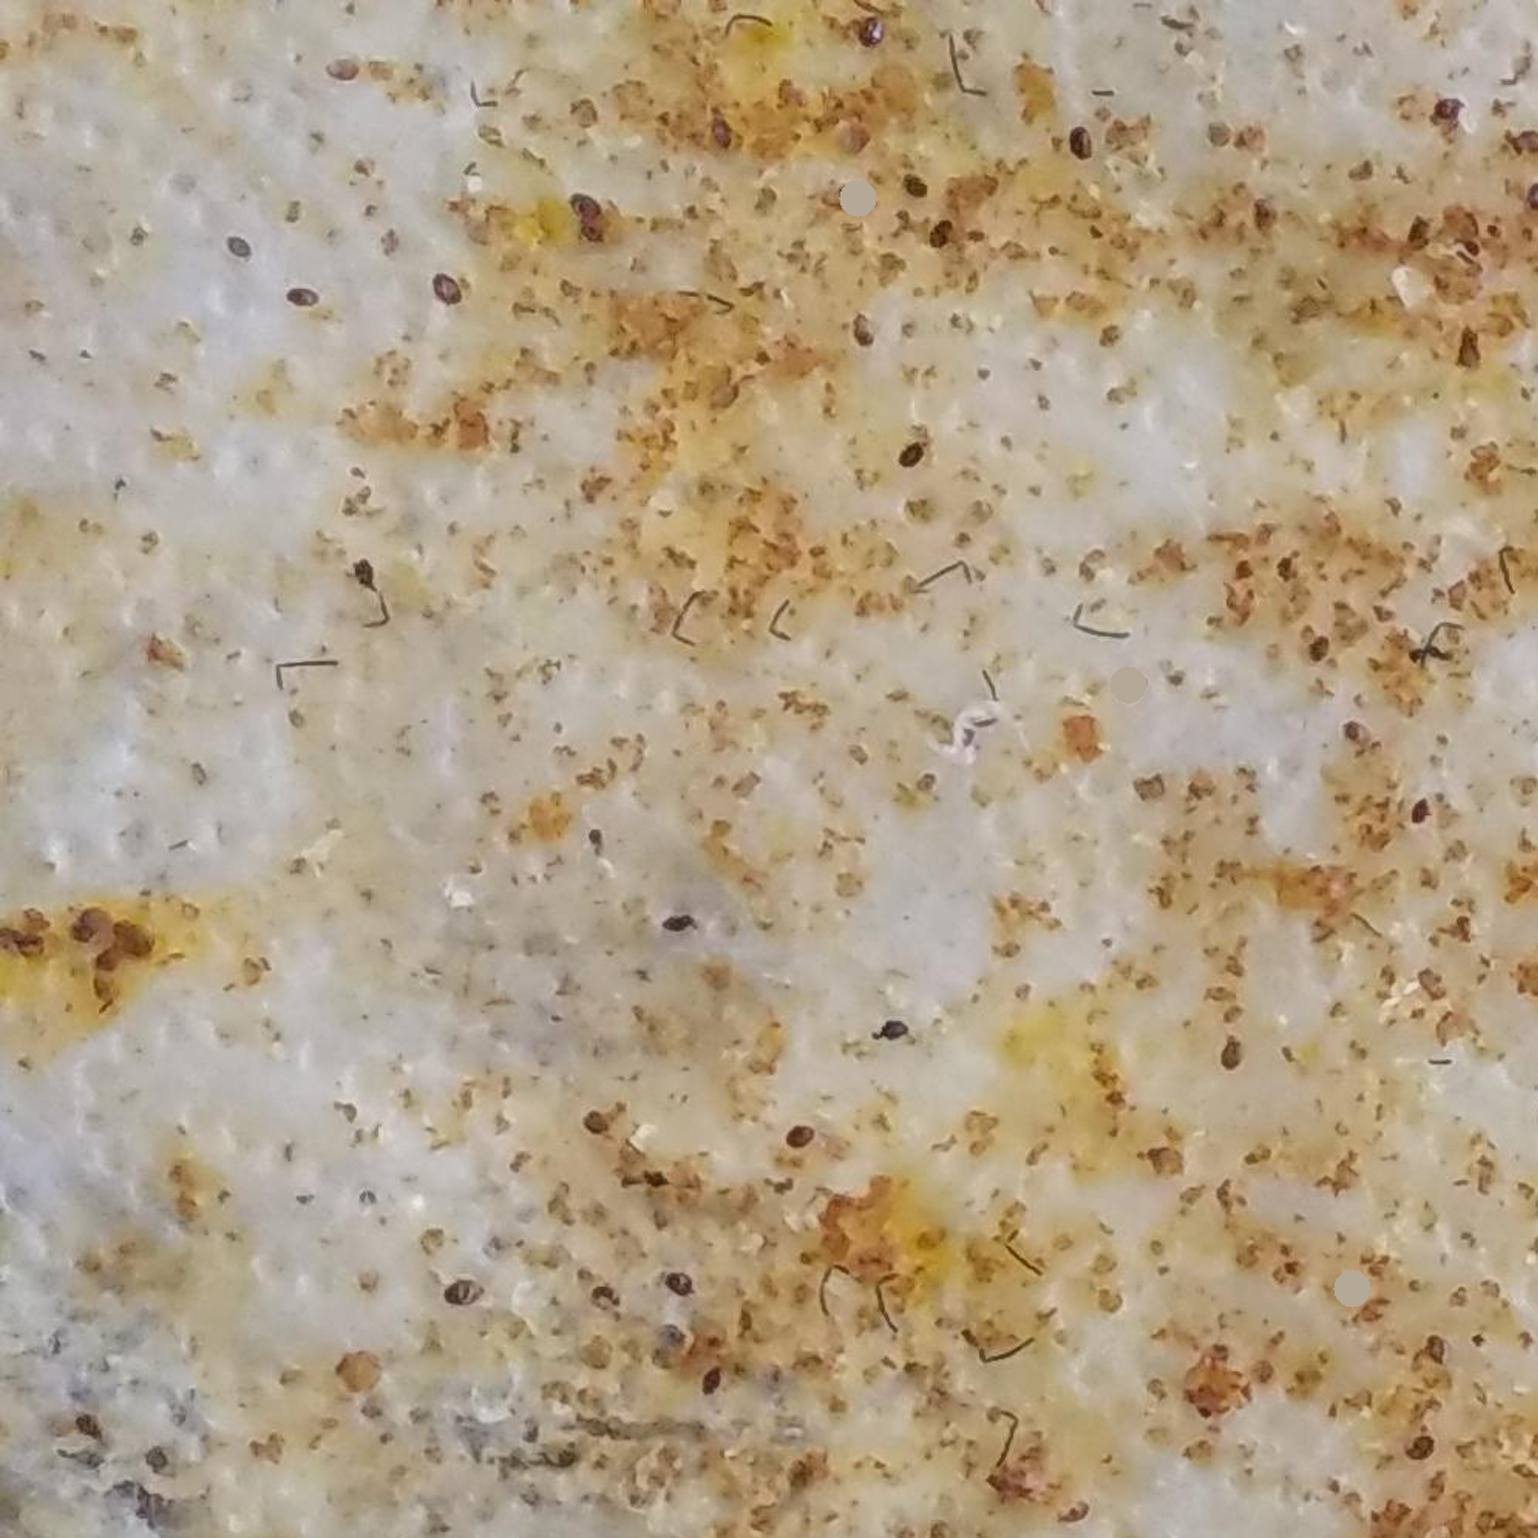Varroa: (1430, 86, 1463, 120), (1299, 635, 1331, 668), (444, 1273, 475, 1304), (285, 282, 315, 311), (330, 59, 359, 90), (665, 1266, 694, 1296), (428, 268, 456, 299), (1401, 1434, 1430, 1463), (223, 232, 252, 261), (693, 1363, 723, 1392), (1068, 135, 1094, 162), (1406, 799, 1432, 825), (787, 1121, 813, 1149), (894, 444, 920, 469), (1223, 1039, 1246, 1066), (582, 1125, 608, 1148)
